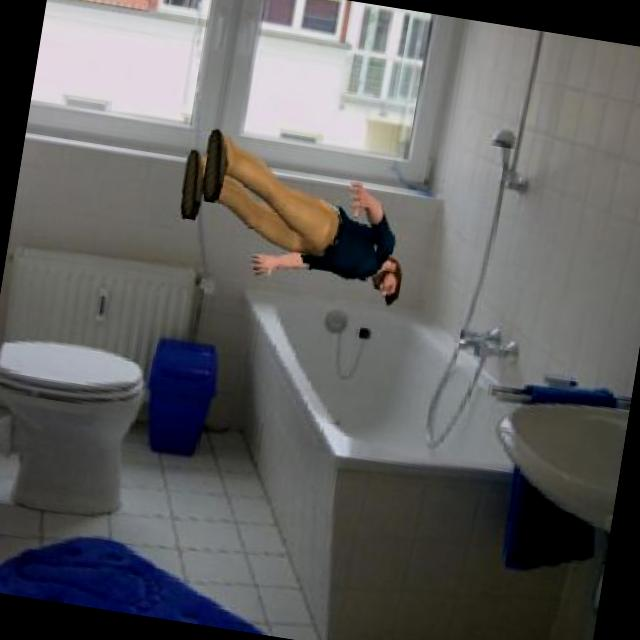Person: (166, 117, 426, 315)
